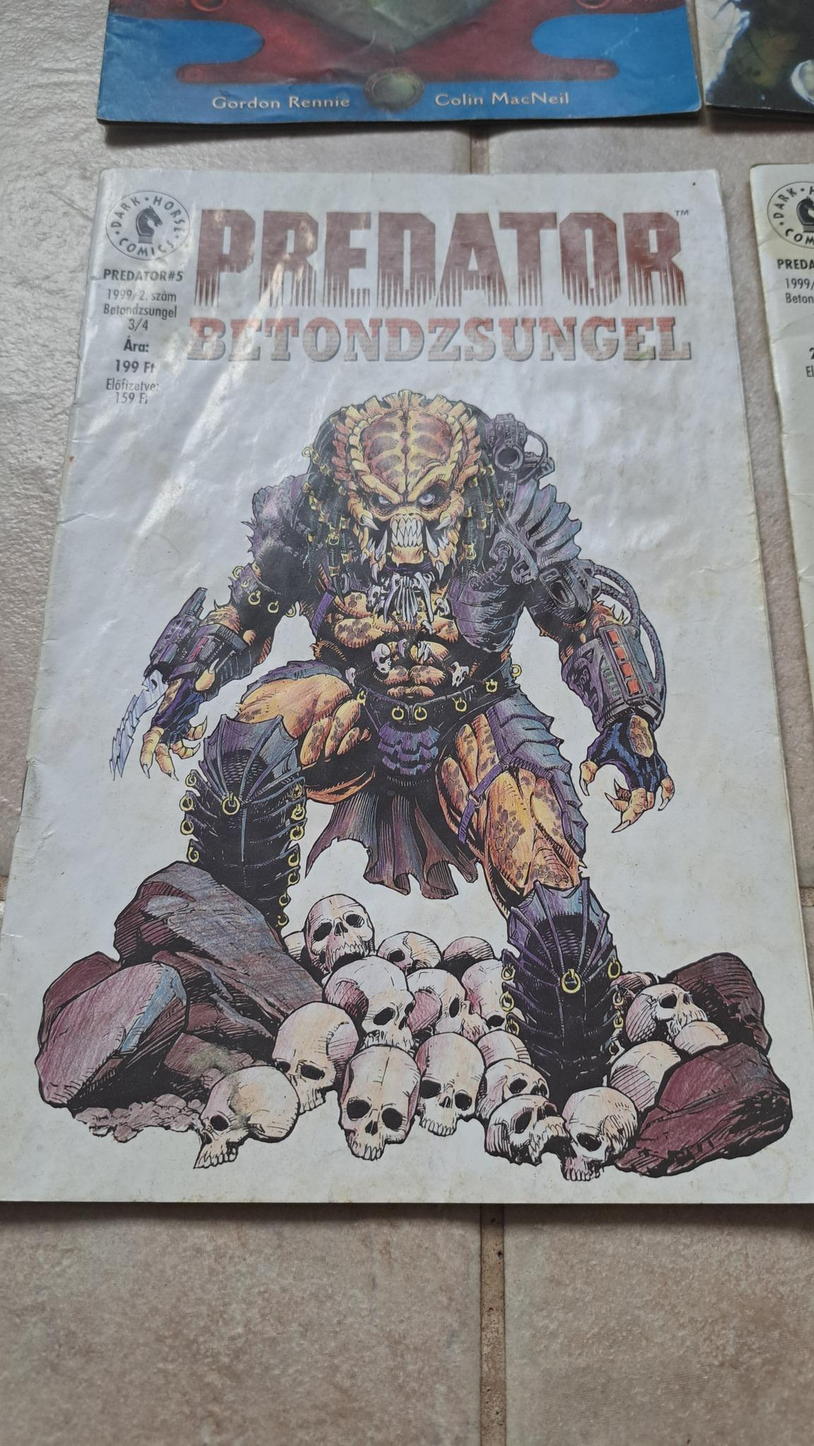comic: (0, 170, 814, 1201)
